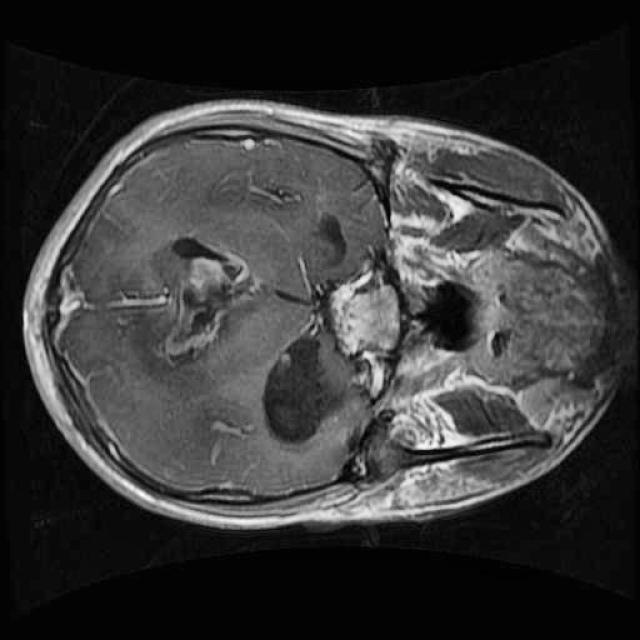Tumor: (99, 212, 286, 382)
